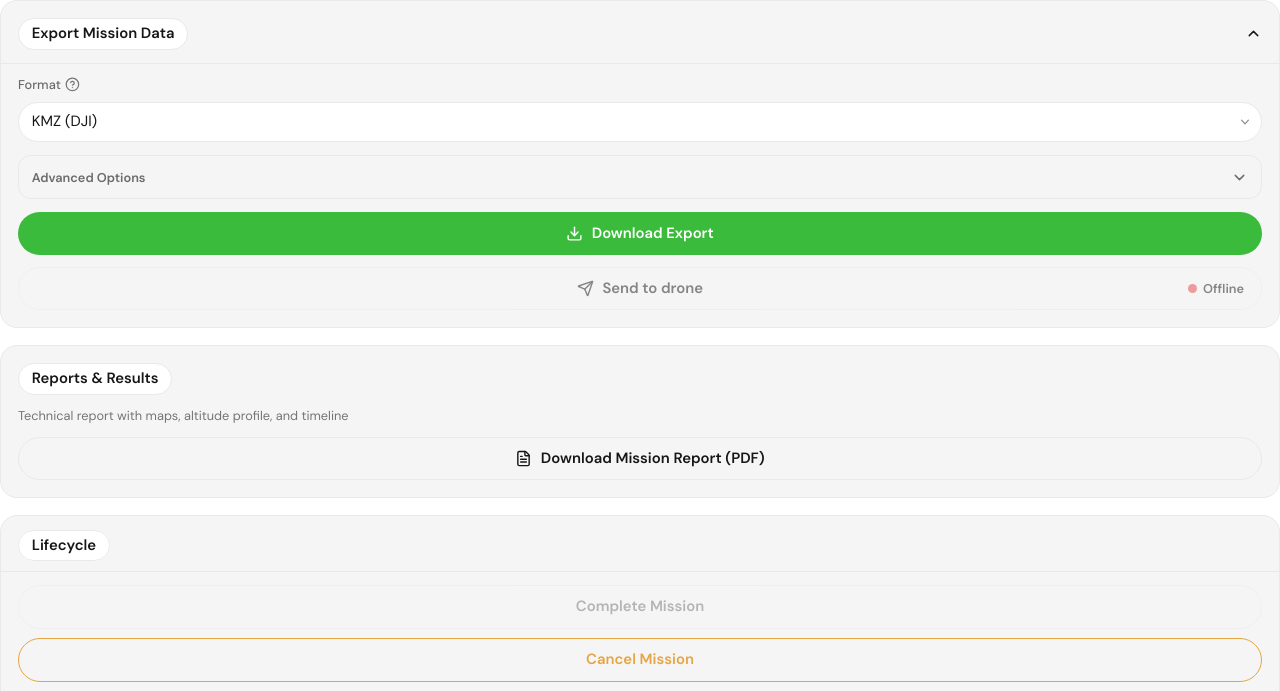
Test: ExportPanel - dji heading mode picker › pre-fills from mission.dji_heading_mode persisted preference
What coordinates should you click on to do the following:
click the button with test id "advanced-options-toggle"
I would click on:
 (89, 177)
Its box is [32, 168, 1248, 186].
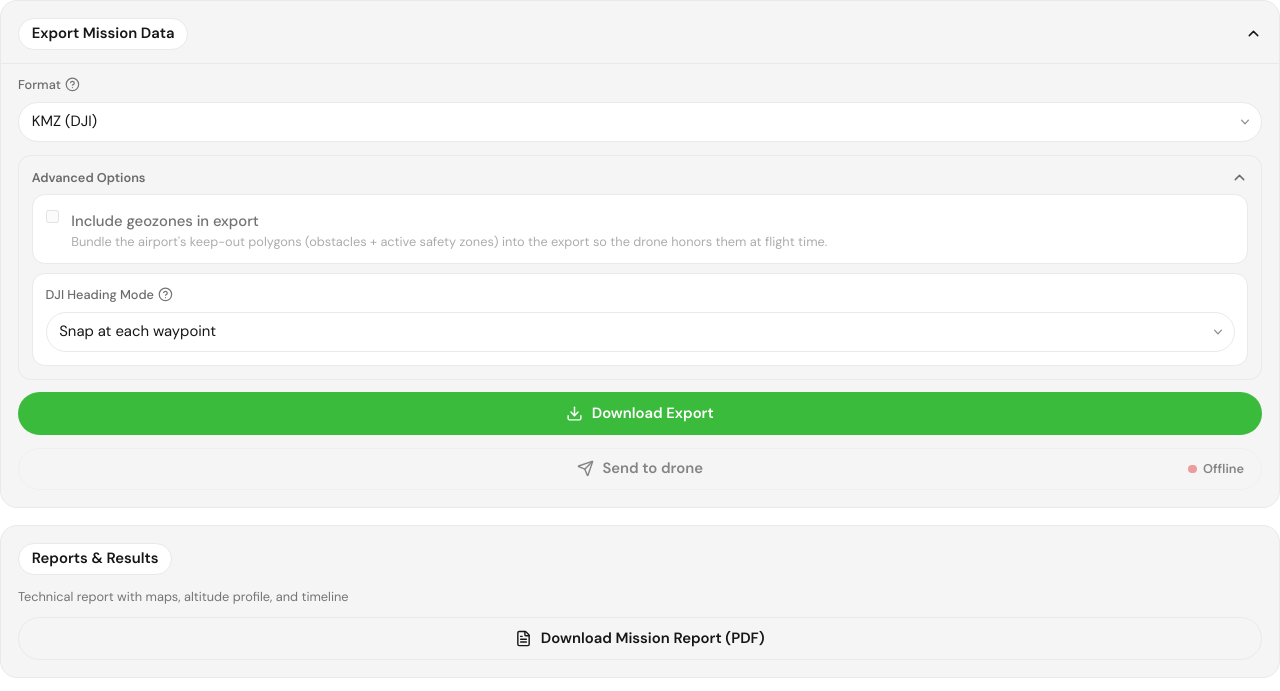
Result: the dropdown with test id "dji-heading-mode-select" shows "Snap at each waypoint" at [46, 312, 1234, 352]
